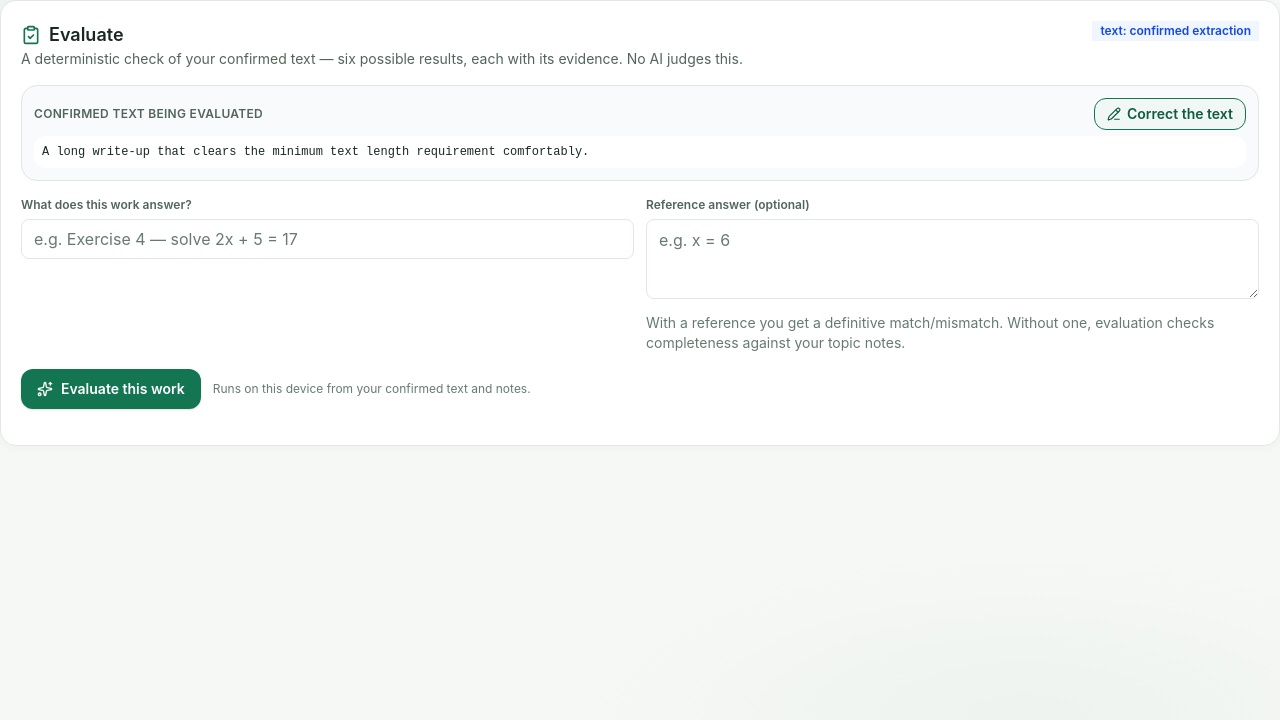
it: EvaluationPanel › renders every result state with confidence and caveat (no bare outcomes)
The width and height of the screenshot is (1280, 720).
Step 1. Click the button with test id "evaluate-button" → x=111, y=389, box [21,369,201,409]
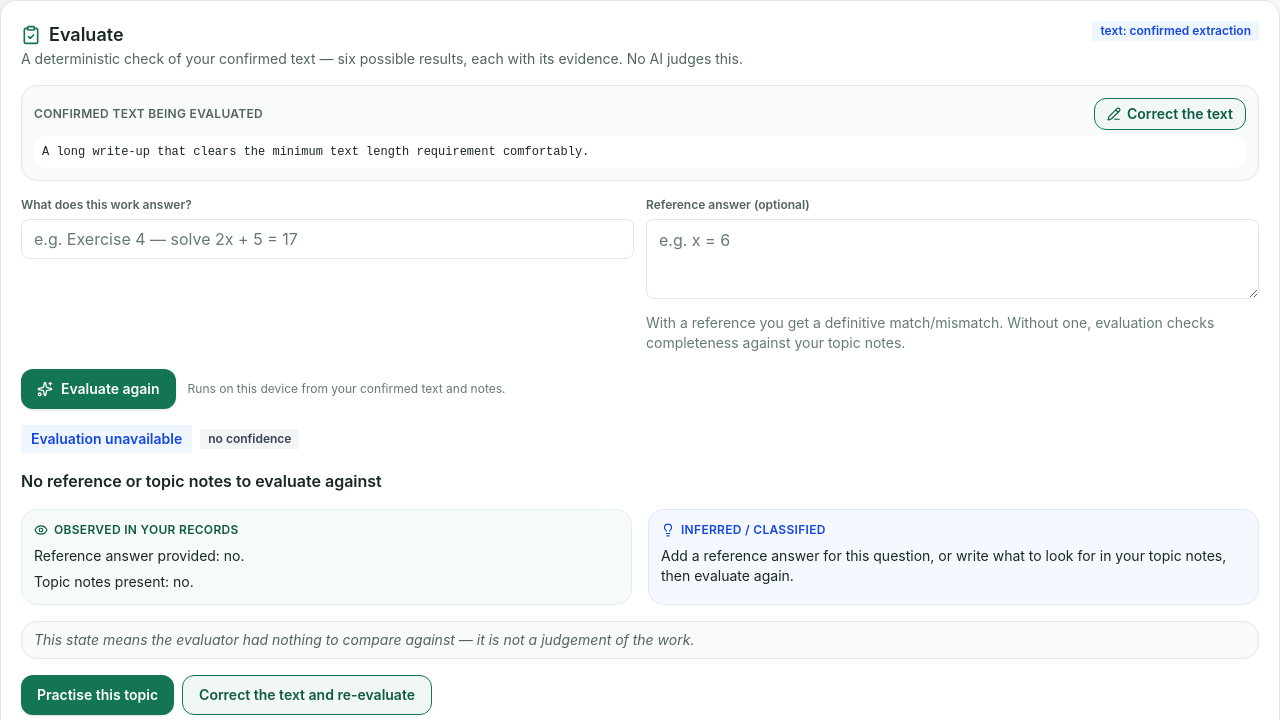
Expected: the element with test id "evaluation-result" is shown, [21,425,1259,715]
Expected: the text with test id "evaluation-confidence" reads "no confidence", [208,431,292,446]
Expected: the text with test id "evaluation-caveat" shows "not a judgement", [34,631,694,648]
